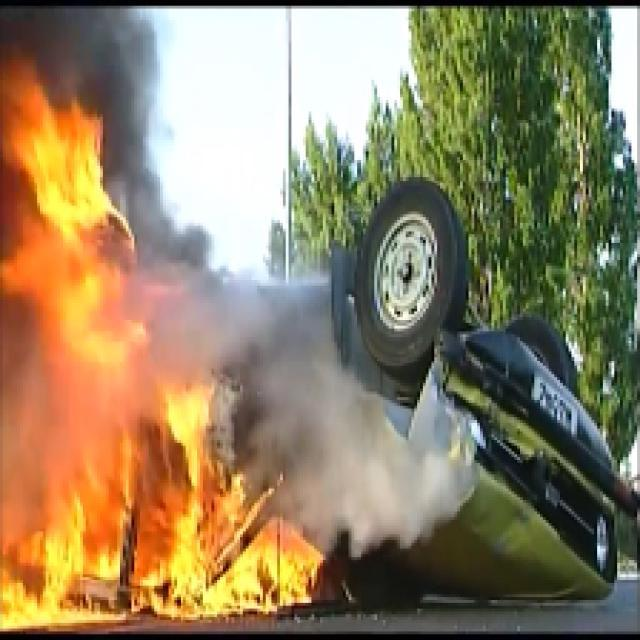Fire: (6, 60, 328, 640)
Smoke: (208, 274, 463, 554), (2, 2, 138, 98)
